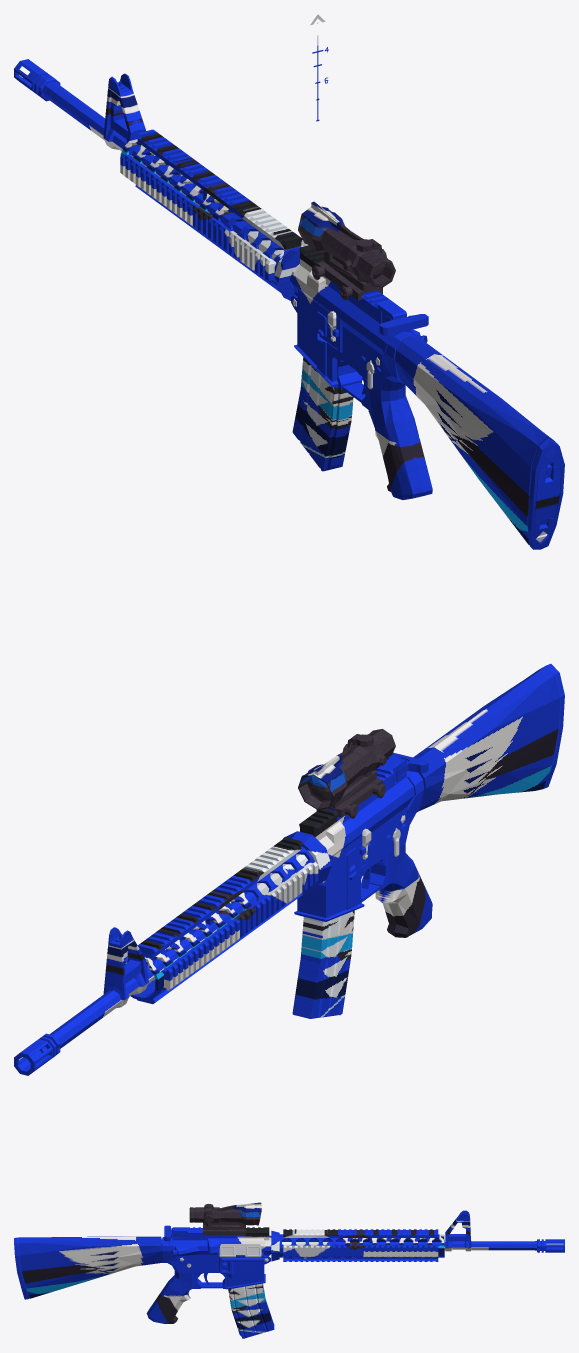
File: m16_winner_blue.glb
3 renders of one model, top to bottom at view 1: azimuth 30°, elevation 25°; view 2: azimuth 150°, elevation 25°; view 3: azimuth 270°, elevation 25°, orthographic. The views are drawn at different scales.
Visible parts, largest first — view 1: main_8, ACOG_0, magazine_9, flash_hider_5, charging_handle_3; view 2: main_8, magazine_9, ACOG_0, flash_hider_5; view 3: main_8, ACOG_0, magazine_9, dustcover_4, flash_hider_5.
Part boxes in pixels (<box>): main_8: <box>42,73,564,549</box>; ACOG_0: <box>298,201,395,300</box>; magazine_9: <box>292,357,353,471</box>; flash_hider_5: <box>14,59,60,101</box>; charging_handle_3: <box>379,314,428,335</box>; main_8: <box>40,663,564,1055</box>; magazine_9: <box>292,910,354,1018</box>; ACOG_0: <box>298,729,395,818</box>; flash_hider_5: <box>14,1033,60,1075</box>; main_8: <box>14,1210,536,1323</box>; ACOG_0: <box>189,1202,261,1235</box>; magazine_9: <box>228,1283,274,1338</box>; dustcover_4: <box>219,1244,261,1257</box>; flash_hider_5: <box>537,1239,564,1252</box>.
Bounding box in the file's own units: 0.0628 × 0.4745 × 1.02.
26 materials, 26 textured.
